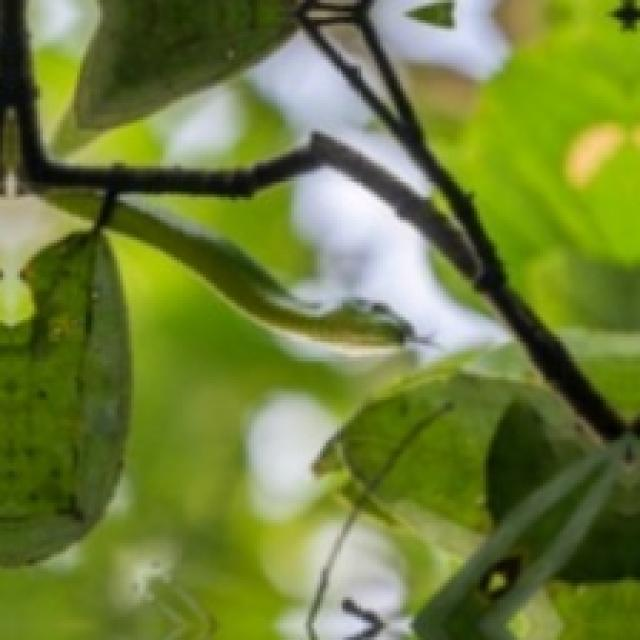red-tailed green ratsnake: (108, 200, 415, 346), (50, 191, 100, 218)
